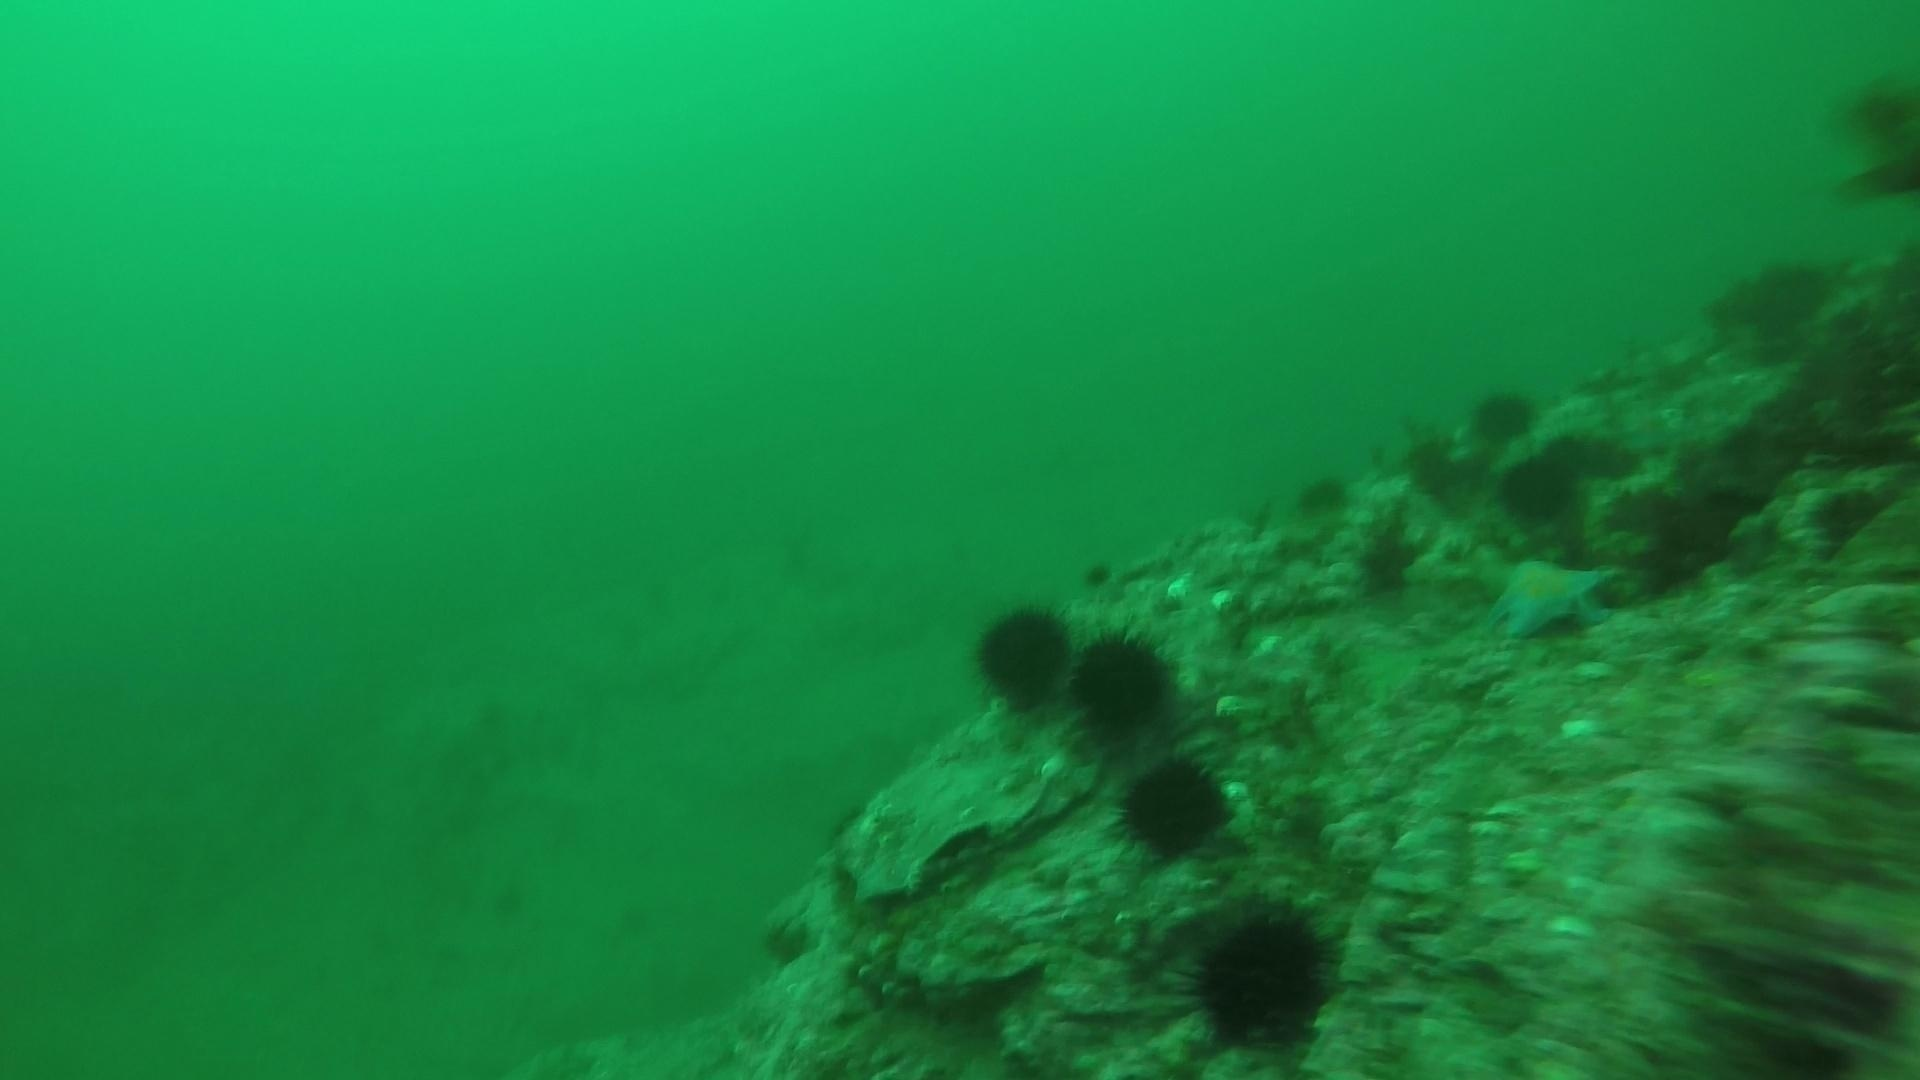echinus: (1174, 895, 1346, 1058), (1110, 750, 1236, 864), (1065, 625, 1179, 741), (968, 597, 1077, 711), (1514, 425, 1640, 492), (1494, 447, 1582, 527), (1349, 512, 1428, 601), (1396, 425, 1470, 505), (1462, 382, 1542, 450), (1291, 467, 1356, 524)
starfish: (1481, 550, 1619, 644)
